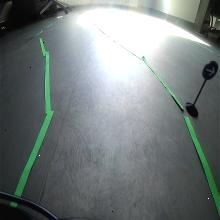right: (202, 60, 218, 81)
